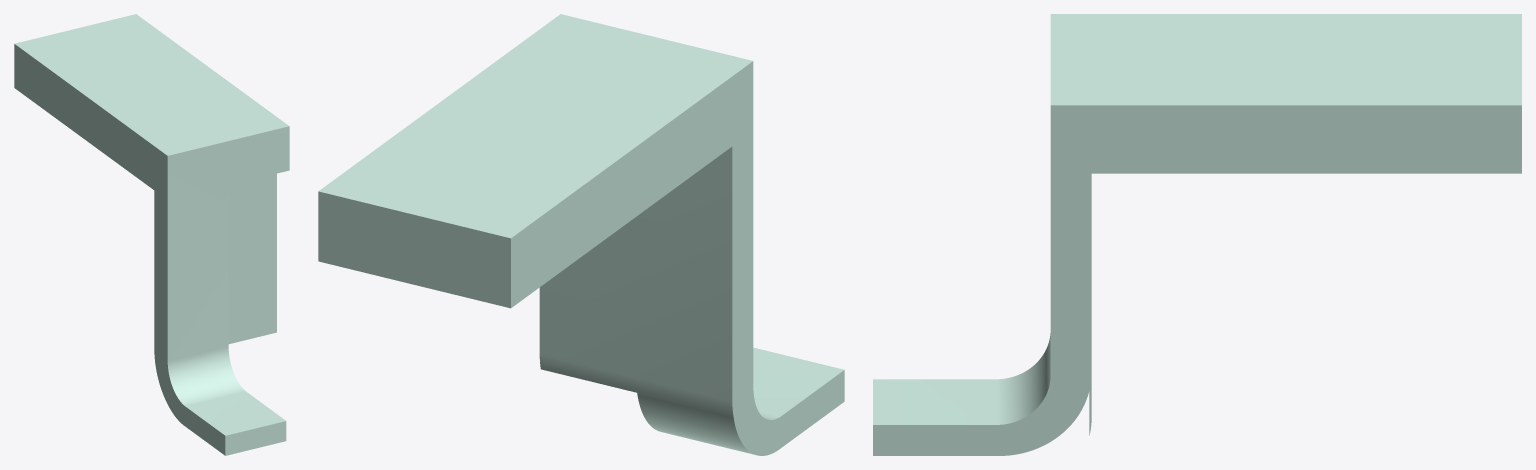
3 views of the same model, side by side, from view 1: azimuth 30°, elevation 25°; view 2: azimuth 150°, elevation 25°; view 3: azimuth 270°, elevation 25° (orthographic). The views are drawn at different scales.
Visible parts, largest first — view 1: Renderer Node; view 2: Renderer Node; view 3: Renderer Node.
Part boxes in pixels (bbox=[...]): Renderer Node: bbox=[14, 14, 289, 455]; Renderer Node: bbox=[318, 14, 844, 455]; Renderer Node: bbox=[873, 14, 1521, 455].
Size of the model in its own units: 0.375 by 0.758 by 1.12.
